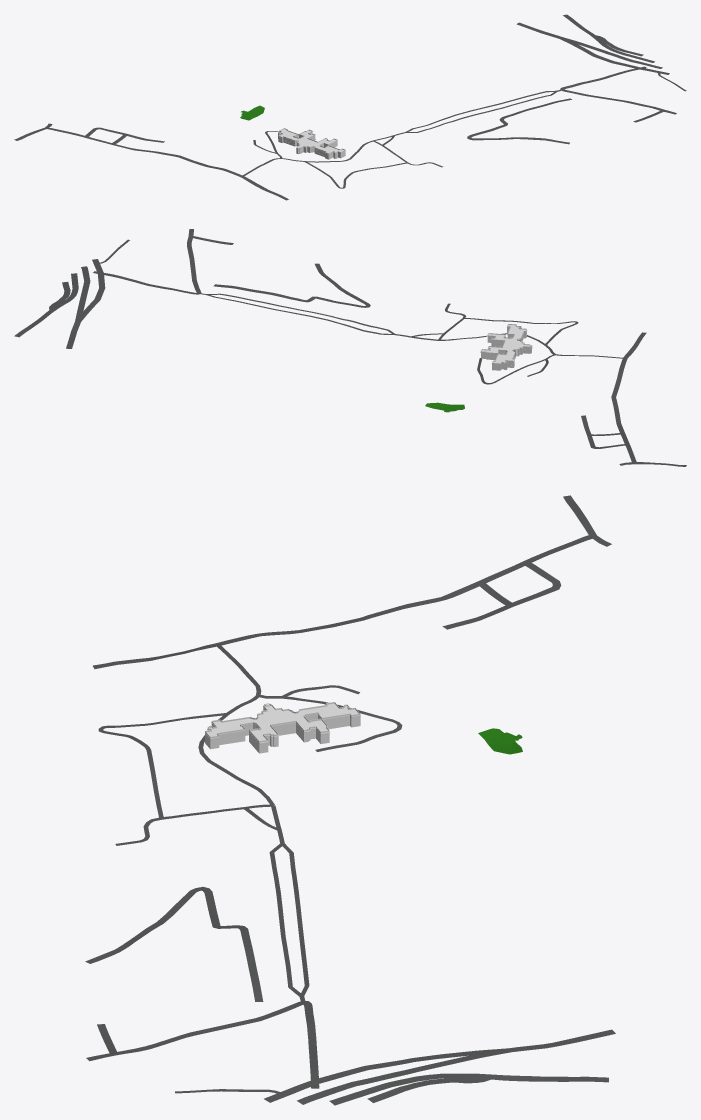
The model's file is buildingWithRoad.glb.
The picture shows the model from 3 angles, top to bottom: view 1: azimuth 30°, elevation 25°; view 2: azimuth 150°, elevation 25°; view 3: azimuth 270°, elevation 25°; orthographic projection. The views are drawn at different scales.
Parts seen in each view (by area): view 1: map_26.osm_roads_residential, map_26.osm_roads_service, map_26.osm_roads_trunk, Wall, Slab.001, map_26.osm_roads_unclassified; view 2: map_26.osm_roads_service, map_26.osm_roads_residential, map_26.osm_roads_trunk, Wall, Slab.001, map_26.osm_roads_unclassified; view 3: map_26.osm_roads_service, map_26.osm_roads_residential, map_26.osm_roads_trunk, Wall, Slab.001, map_26.osm_roads_unclassified.
Boxes of the visible parts, box(x1,y1,x2,y2) form: map_26.osm_roads_residential: box(46, 98, 664, 200); map_26.osm_roads_service: box(241, 72, 686, 188); map_26.osm_roads_trunk: box(516, 14, 669, 74); Wall: box(278, 128, 345, 159); Slab.001: box(278, 129, 345, 154); map_26.osm_roads_unclassified: box(560, 66, 676, 114); map_26.osm_roads_service: box(96, 239, 624, 384); map_26.osm_roads_residential: box(190, 235, 646, 462); map_26.osm_roads_trunk: box(14, 259, 105, 348); Wall: box(481, 324, 531, 370); Slab.001: box(480, 324, 532, 364); map_26.osm_roads_unclassified: box(93, 229, 201, 294); map_26.osm_roads_service: box(98, 644, 402, 1095); map_26.osm_roads_residential: box(85, 534, 593, 1054); map_26.osm_roads_trunk: box(264, 1029, 615, 1105); Wall: box(205, 702, 360, 752); Slab.001: box(205, 703, 360, 743); map_26.osm_roads_unclassified: box(86, 1001, 319, 1088).
Size of the model in its own units: 1147 by 40.43 by 453.
